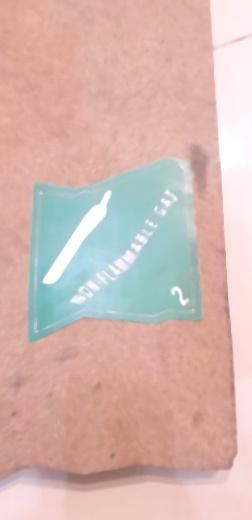non-flammable-gas: (29, 162, 204, 343)
